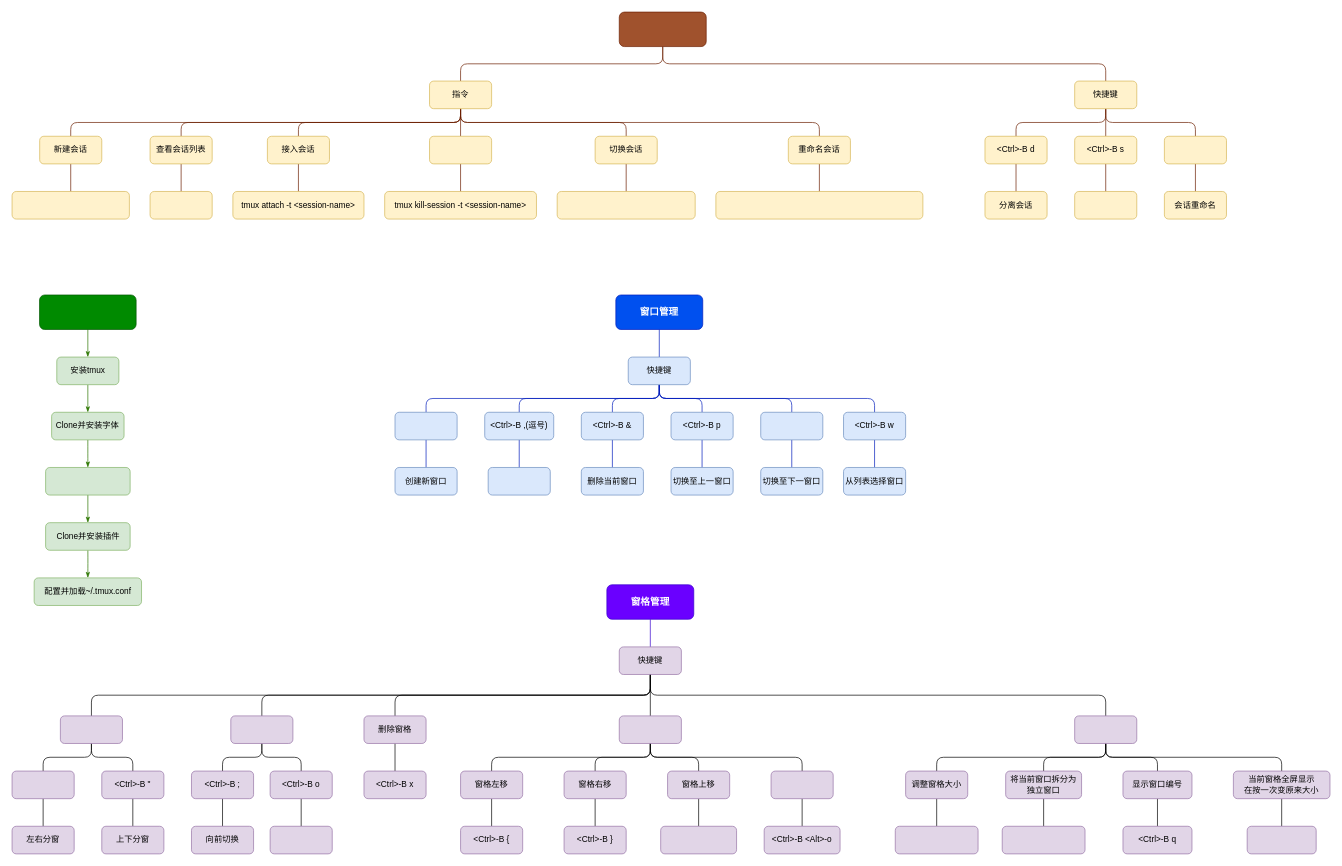
Some shapes in this 1342 by 866 pixel diagram are drawn without their labels. Each missing label, with the box of its shape:
<Ctrl>-B $: (1164, 136, 1226, 164)
<Ctrl>-B %: (11, 770, 74, 799)
<Ctrl>-B <Ctrl>-o: (660, 826, 737, 854)
<Ctrl>-B alt 方向键: (895, 826, 978, 854)
<Ctrl>-B c: (394, 412, 457, 440)
<Ctrl>-B n: (760, 412, 823, 440)
<Ctrl>-B z: (1246, 826, 1316, 854)
<Ctrl>-B ！: (1002, 826, 1085, 854)
Clone并安装风格包: (45, 467, 130, 495)
tmux ls: (149, 191, 212, 219)
tmux new -s <session-name>: (11, 191, 129, 219)
tmux rename-session -t <old_name> <new_name>: (715, 191, 923, 219)
tmux switch -t <session-name>: (556, 191, 695, 219)
会话管理: (619, 11, 706, 47)
光标切换: (230, 715, 293, 743)
其他操作: (1074, 715, 1137, 743)
创建窗格: (60, 715, 122, 743)
向后切换: (269, 826, 332, 854)
安装过程 (详情见markdown): (39, 294, 136, 329)
显示会话列表: (1074, 191, 1137, 219)
杀死会话: (429, 136, 492, 164)
移动窗格: (619, 715, 681, 743)
窗口重命名: (487, 467, 550, 495)
窗格下移: (770, 770, 833, 799)
